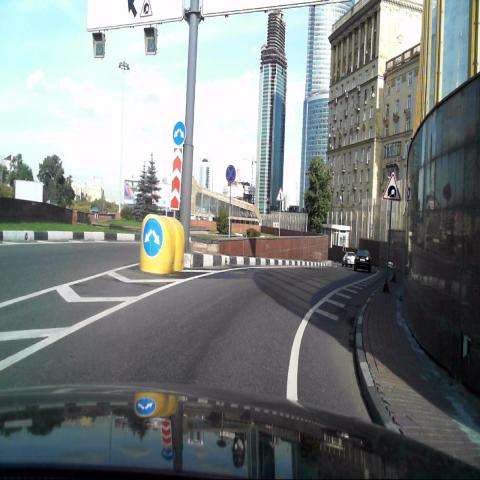1_31: (381, 167, 402, 203)
